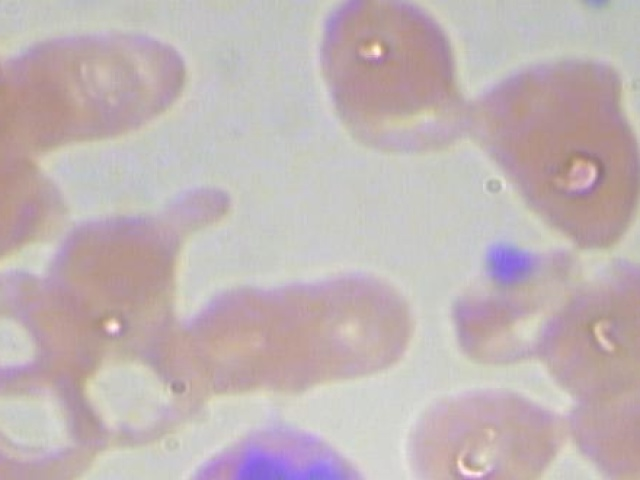Platelets: (471, 233, 537, 283), (567, 0, 630, 13)
RBC: (458, 42, 640, 253), (47, 316, 214, 455), (260, 255, 422, 395), (304, 0, 465, 119), (404, 369, 566, 480), (524, 256, 640, 396), (0, 355, 115, 480), (0, 259, 102, 398), (620, 366, 640, 480)
WBC: (156, 419, 406, 480)
